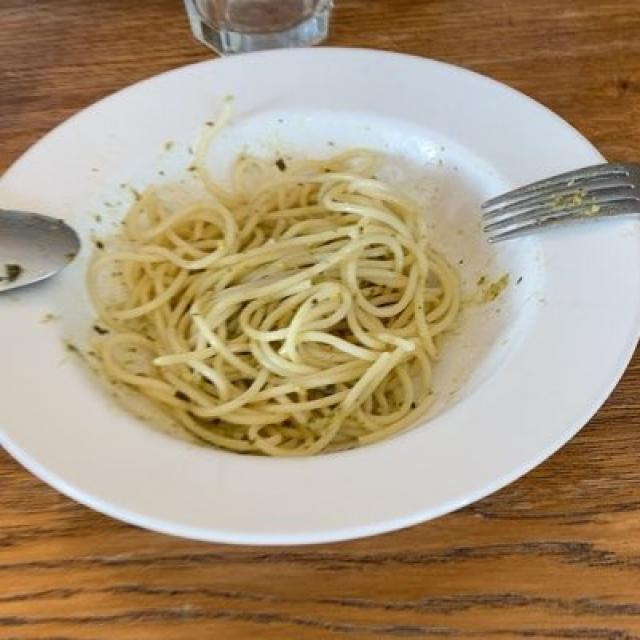pasta-spaghetti: (102, 161, 462, 455)
